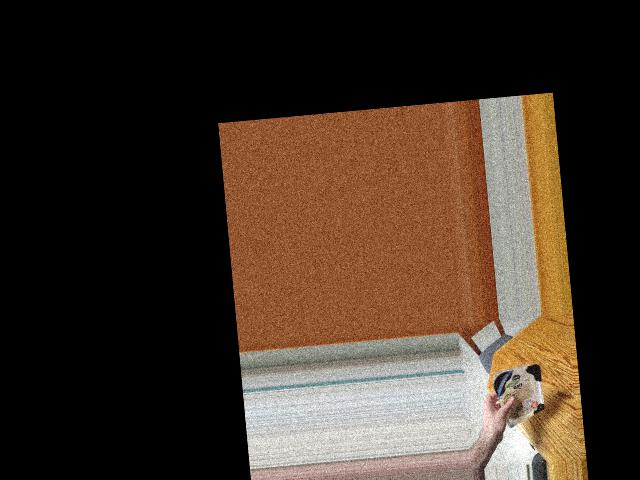cheese: (499, 362, 540, 424)
